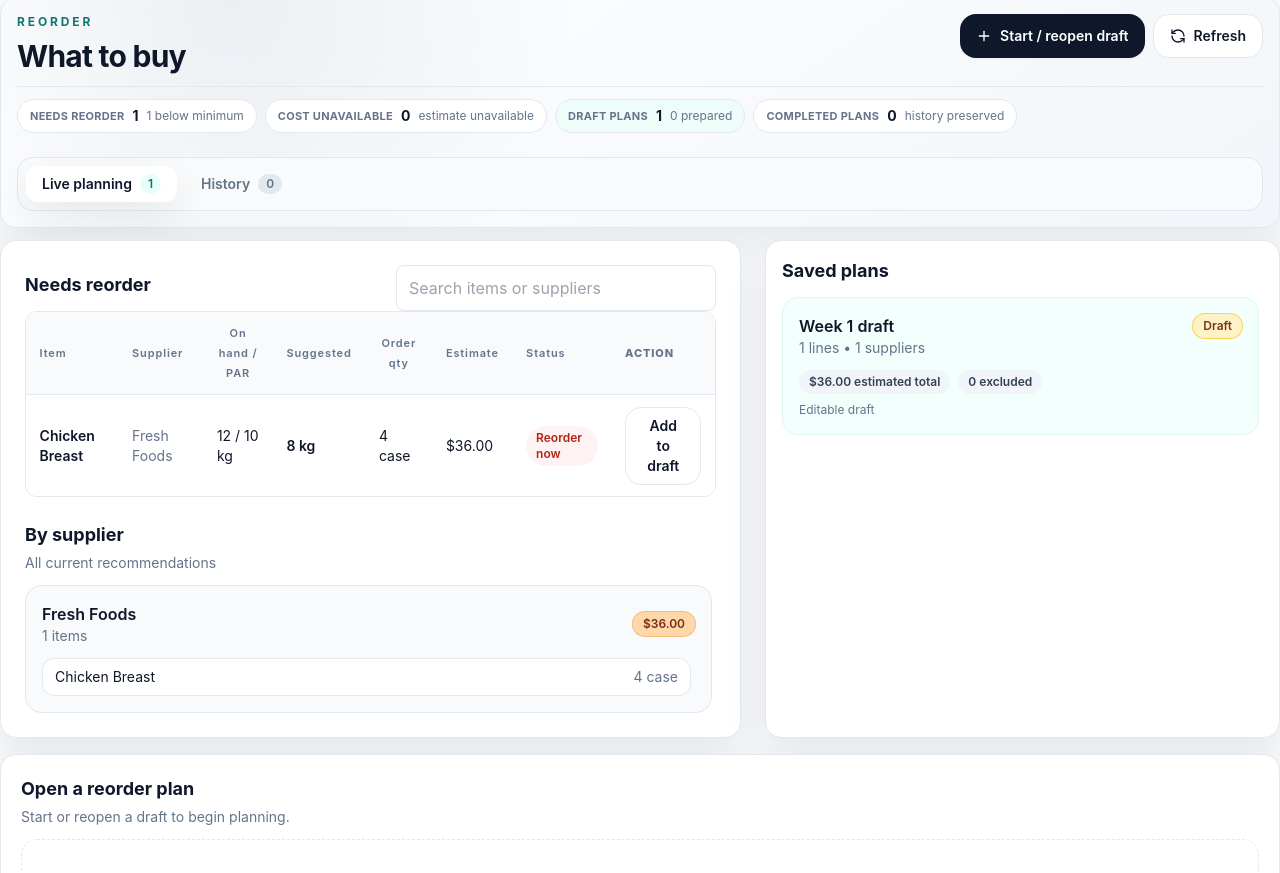
PilotReorderPlanPage › shows precise small purchase conversions
Click the button "Week 1 draft": (847, 326) [782,297,1259,435]
(page scrolled)
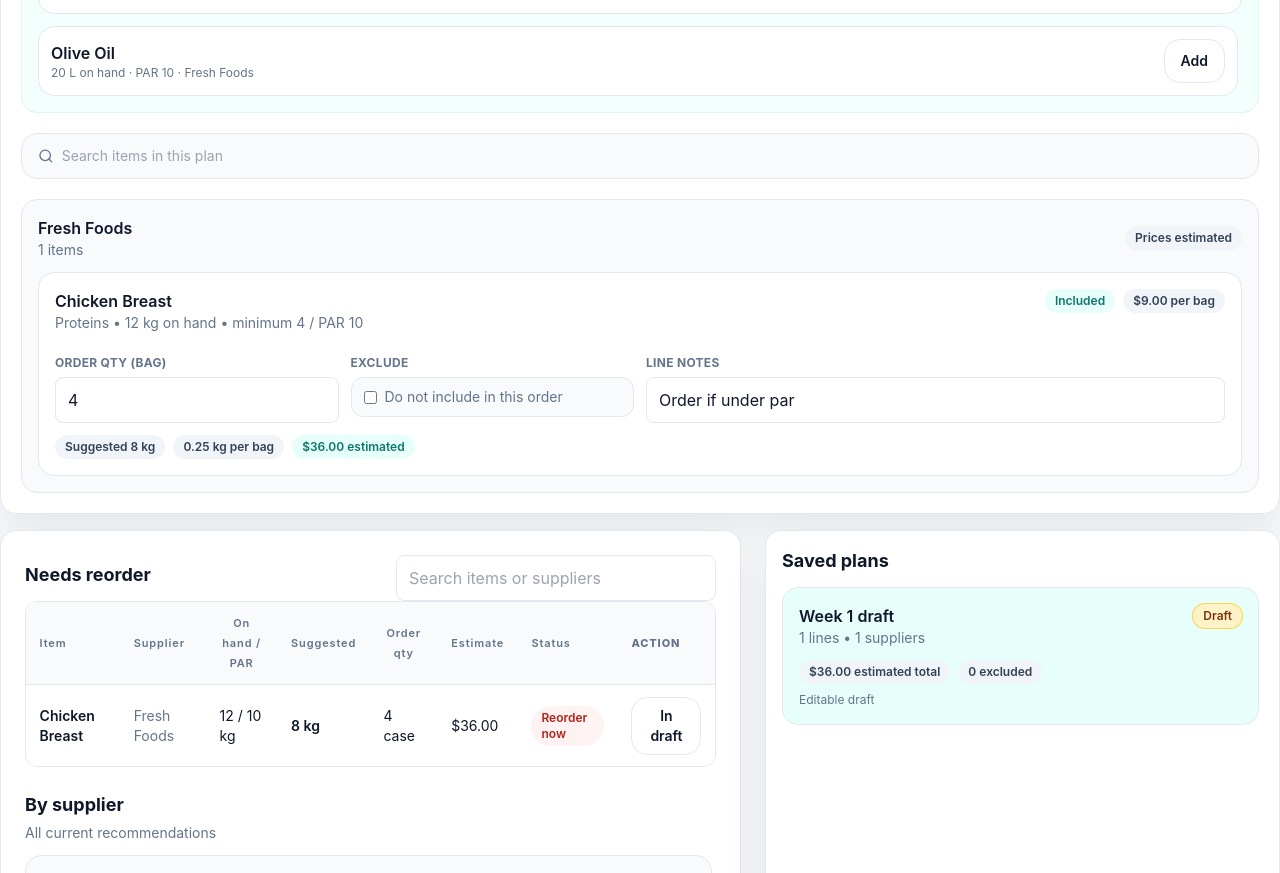
expect the text "0.25 kg per bag" is shown: met, box [173,435,284,459]
